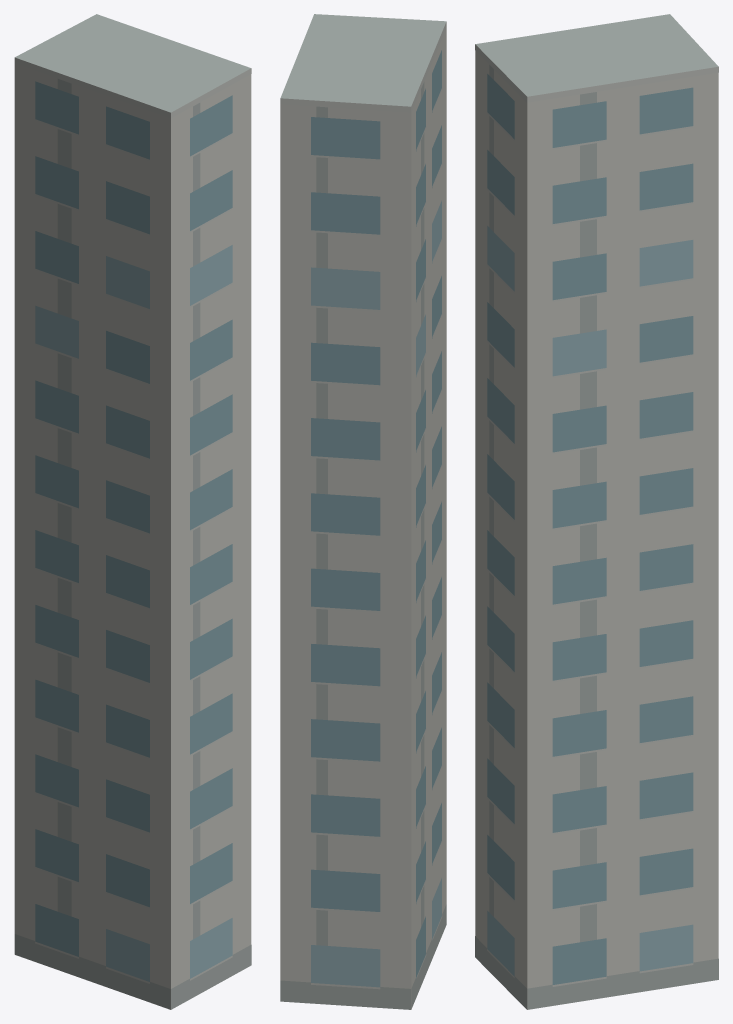
The model's file is survey-upis-32835341.glb.
The picture shows the model from 3 angles, left to right: view 1: azimuth 30°, elevation 25°; view 2: azimuth 150°, elevation 25°; view 3: azimuth 270°, elevation 25°; orthographic projection.
Visible parts, largest first — view 1: survey-upis-32835341.tmp; view 2: survey-upis-32835341.tmp; view 3: survey-upis-32835341.tmp.
Part boxes in pixels (x1,y1,x2,y2): survey-upis-32835341.tmp: (14, 14, 251, 1009); survey-upis-32835341.tmp: (280, 14, 446, 1009); survey-upis-32835341.tmp: (475, 14, 718, 1009).
Size of the model in its own units: 7.12 by 36.6 by 8.86.
